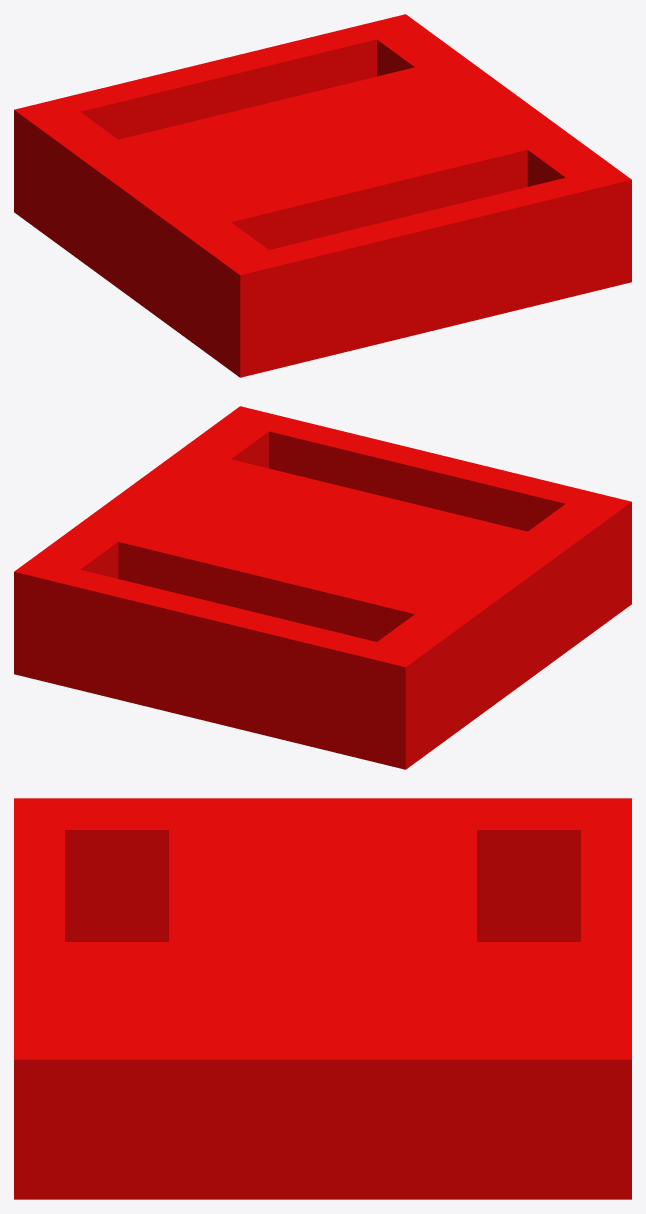
File: RGB_Stool_base.fbx
3 renders of one model, top to bottom at view 1: azimuth 30°, elevation 25°; view 2: azimuth 150°, elevation 25°; view 3: azimuth 270°, elevation 25°, orthographic. The views are drawn at different scales.
Visible parts, largest first — view 1: Base; view 2: Base; view 3: Base.
Part boxes in pixels (box(x1,y1,x2,y2)): Base: box(14, 14, 631, 377); Base: box(14, 406, 631, 769); Base: box(14, 798, 631, 1199).
Size of the model in its own units: 60 by 15 by 60.
